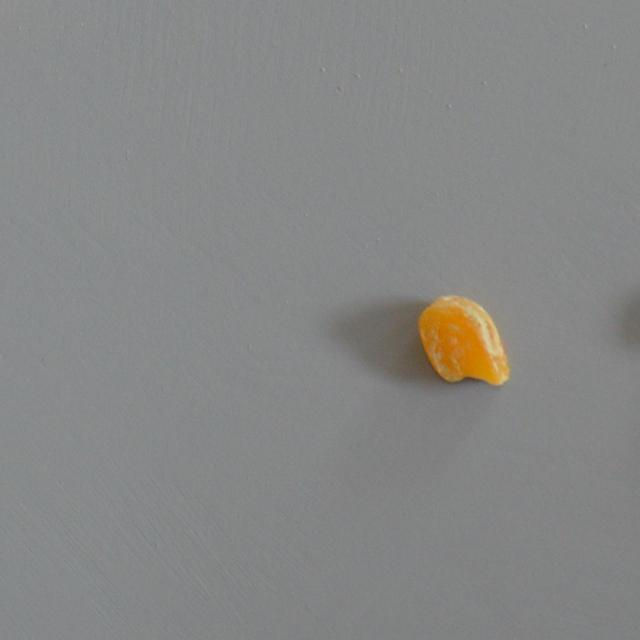pelicula: (417, 295, 510, 387)
